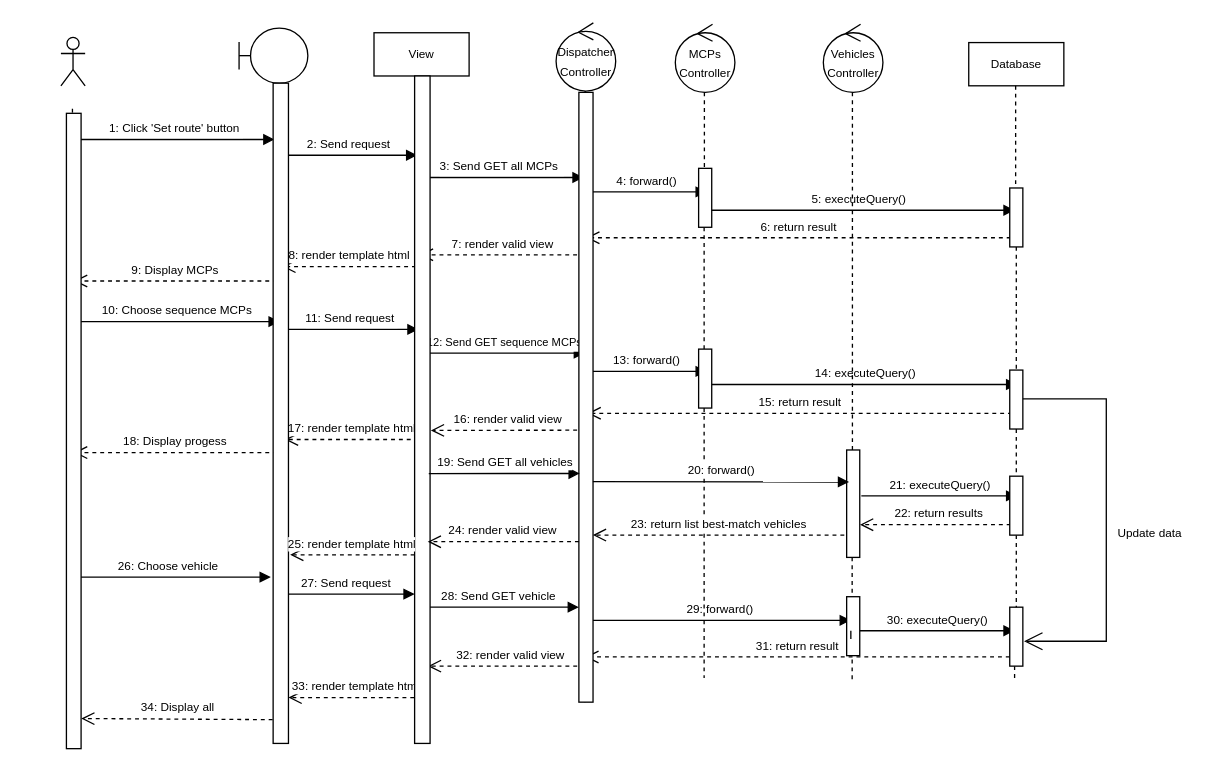
Some shapes in this 1216 by 773 pixel diagram are drawn without their labels. Each missing label, with the centre of its shape:
"Back officers (BOs)" goes at (x=72, y=61).
"BO Interface" goes at (x=273, y=55).
